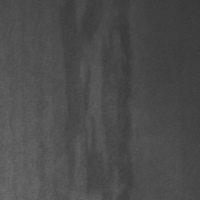inclusion: (59, 1, 131, 200)
